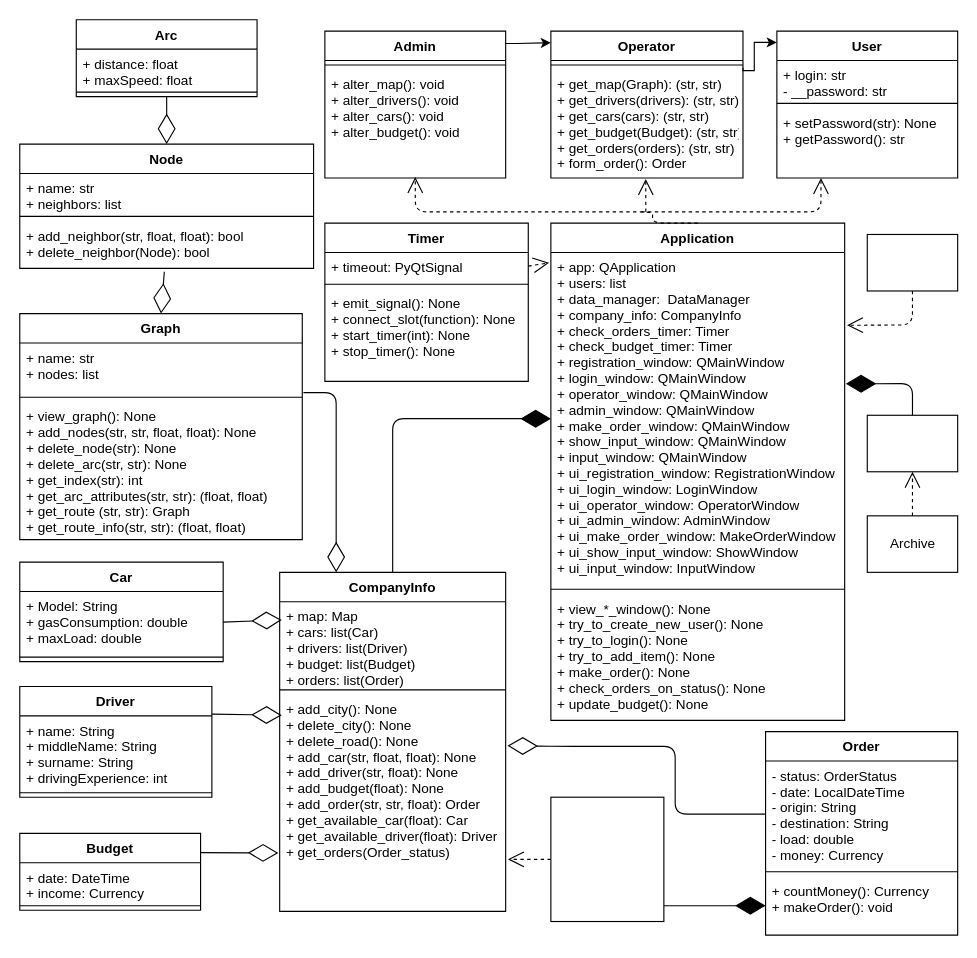
Some shapes in this 977 by 958 pixel diagram are drawn without their labels. Here are the shapes that lost their labels. From the top down, the centre of each, then its label:
(x=912, y=262): All UI's (8)
(x=912, y=443): DataManager
(x=607, y=859): <<Enumeration>> OrderStatus Reserved Canceled Execution Completed
